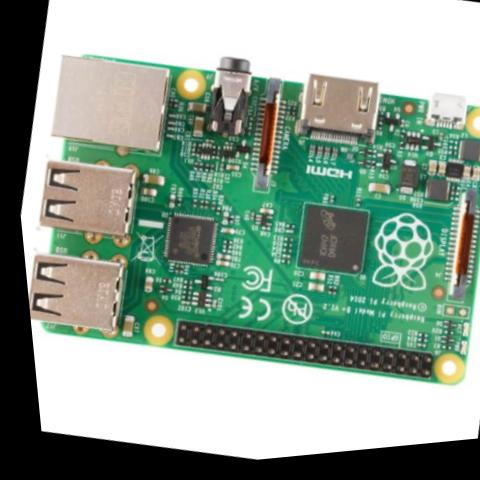Raspberry-Pi-1-Model-B-: (2, 0, 480, 431)
